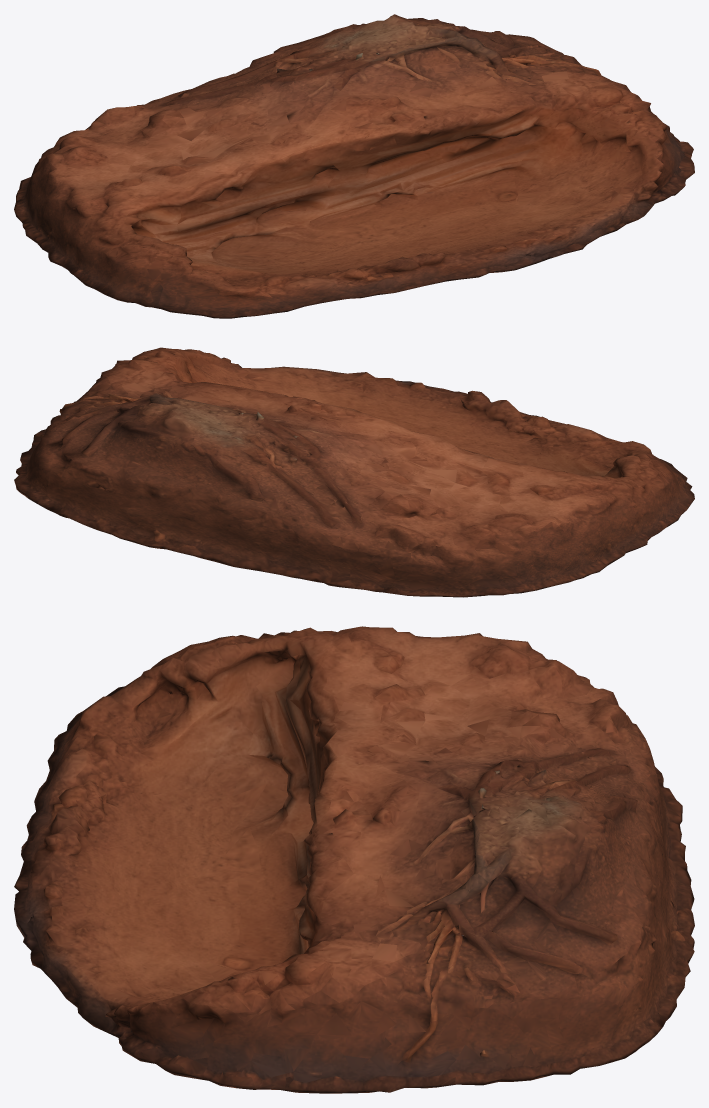
Rendered from clay-16-lod0.gltf.
3 renders of one model, top to bottom at view 1: azimuth 30°, elevation 25°; view 2: azimuth 150°, elevation 25°; view 3: azimuth 270°, elevation 25°, orthographic. The views are drawn at different scales.
Visible parts, largest first — view 1: clay stage 2 L0; view 2: clay stage 2 L0; view 3: clay stage 2 L0.
Boxes of the visible parts, <box> form: clay stage 2 L0: <box>14,14,694,318</box>; clay stage 2 L0: <box>14,347,694,597</box>; clay stage 2 L0: <box>14,626,694,1093</box>.
Size of the model in its own units: 1.76 by 0.2742 by 1.21.
1 material, 1 textured.
